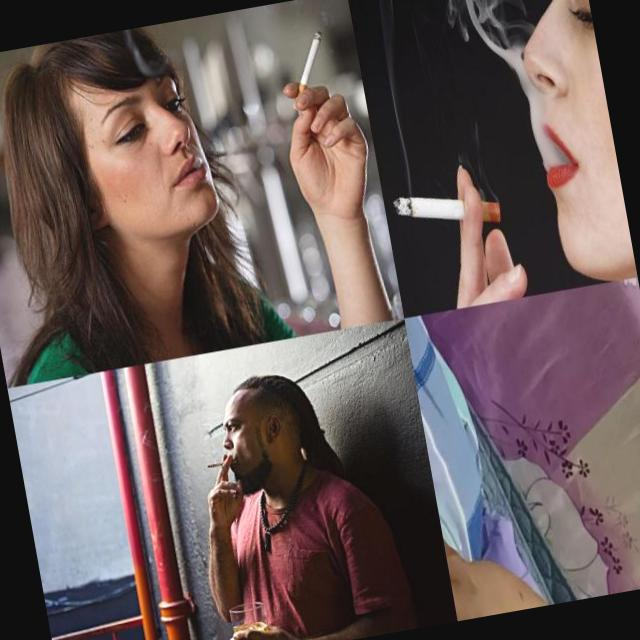smoke: (390, 176, 508, 243), (280, 28, 336, 112), (204, 455, 238, 474)
